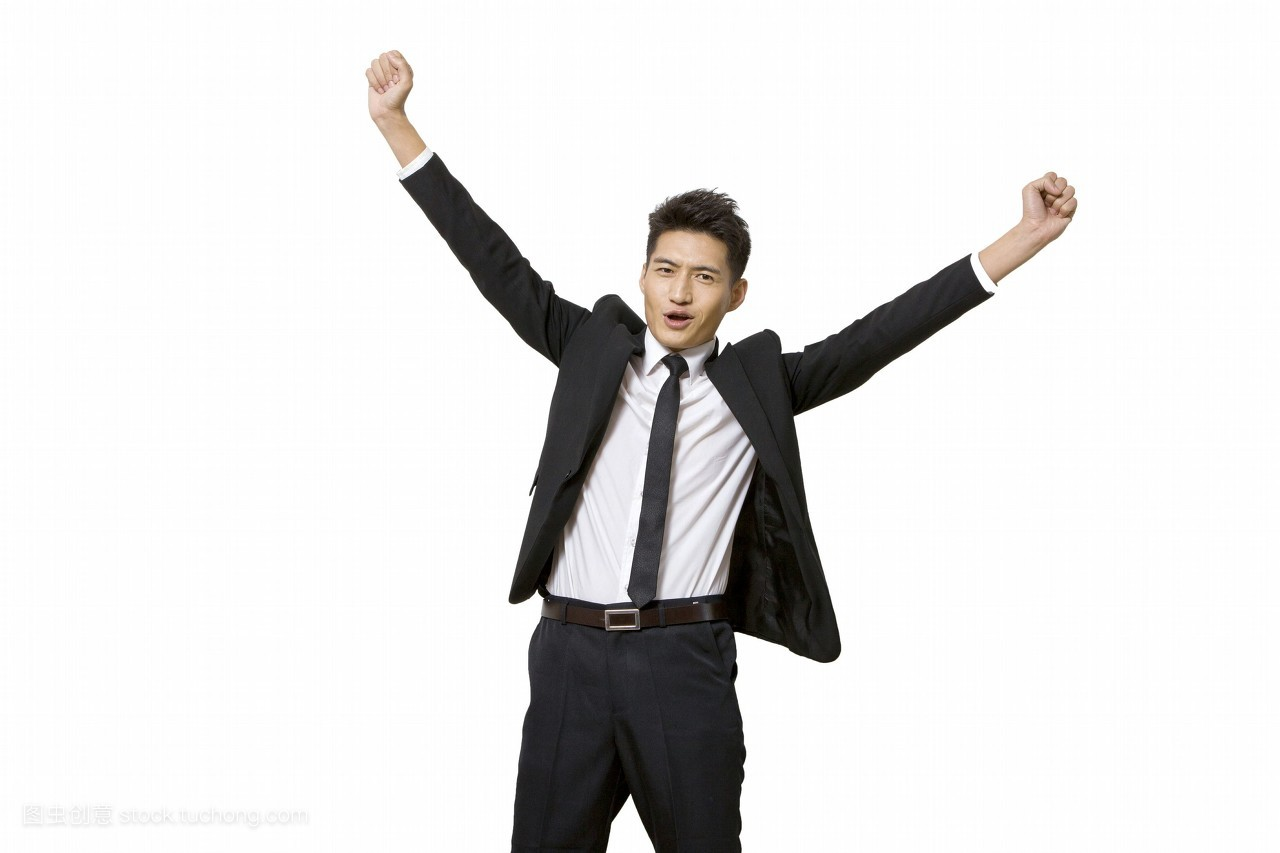handsup: (359, 43, 1085, 851)
